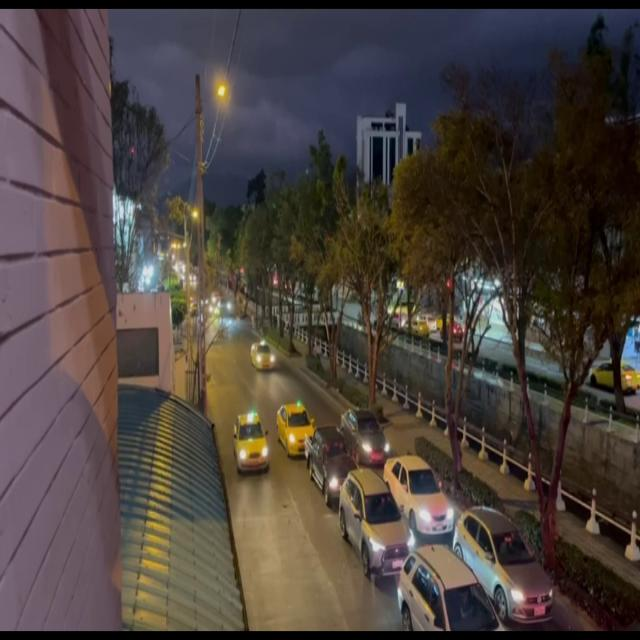CMT: (308, 427, 354, 502)
